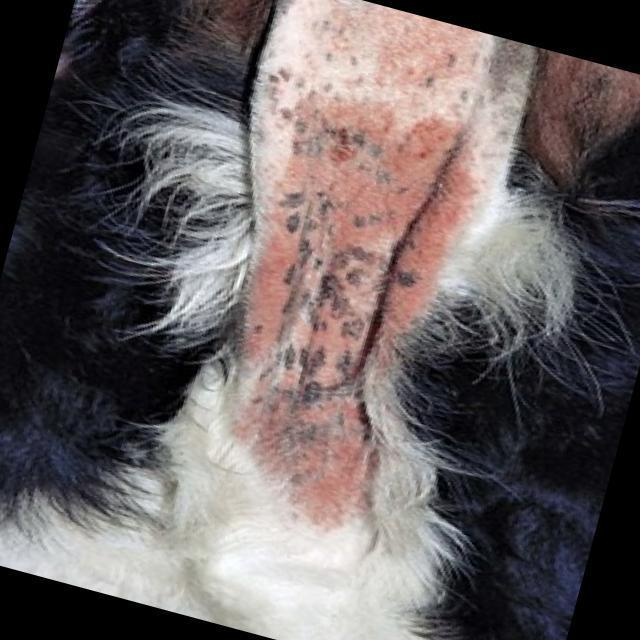fungal infection: (254, 219, 368, 453), (294, 102, 434, 188), (292, 463, 371, 522), (269, 181, 364, 214), (426, 32, 478, 85), (377, 200, 418, 243), (390, 250, 427, 296), (308, 36, 355, 71), (266, 72, 302, 114), (386, 62, 430, 93), (447, 78, 485, 108), (309, 77, 347, 101)
